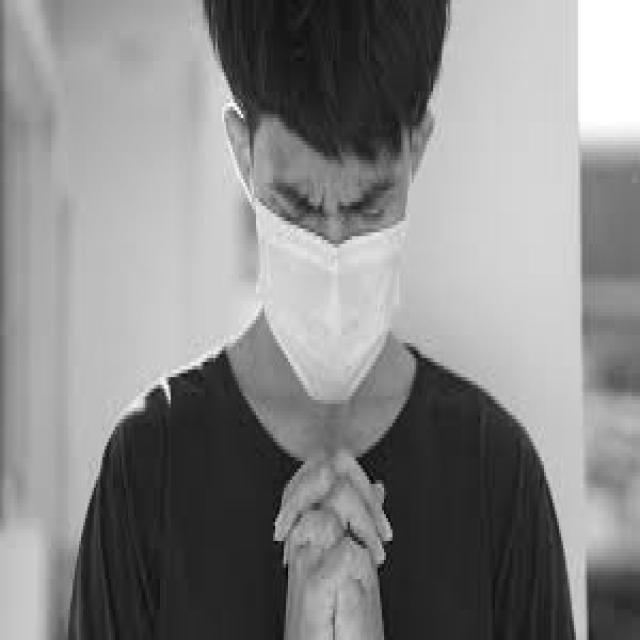with_mask: (247, 118, 412, 404)
